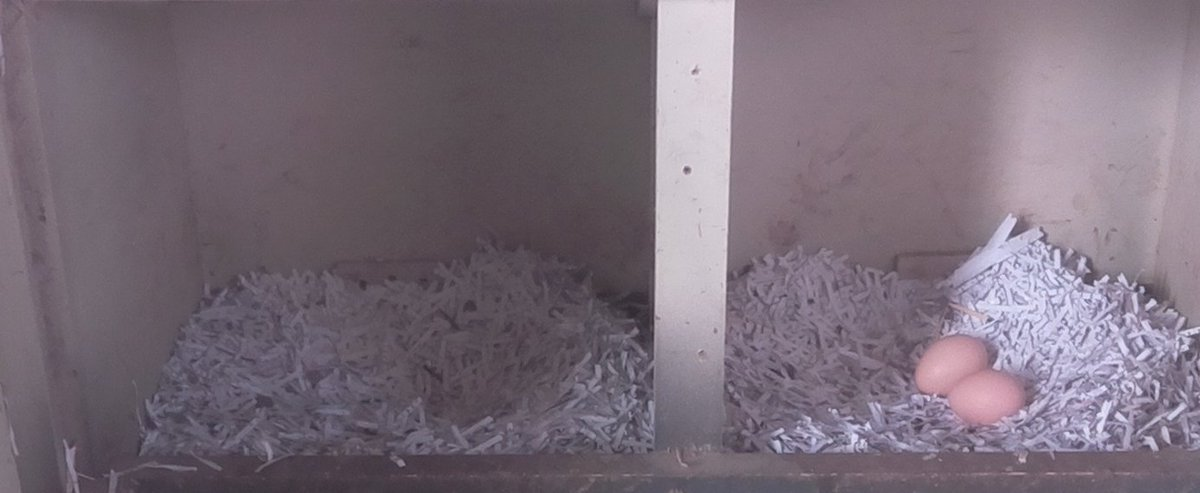egg: (912, 334, 989, 395), (947, 367, 1029, 422)
